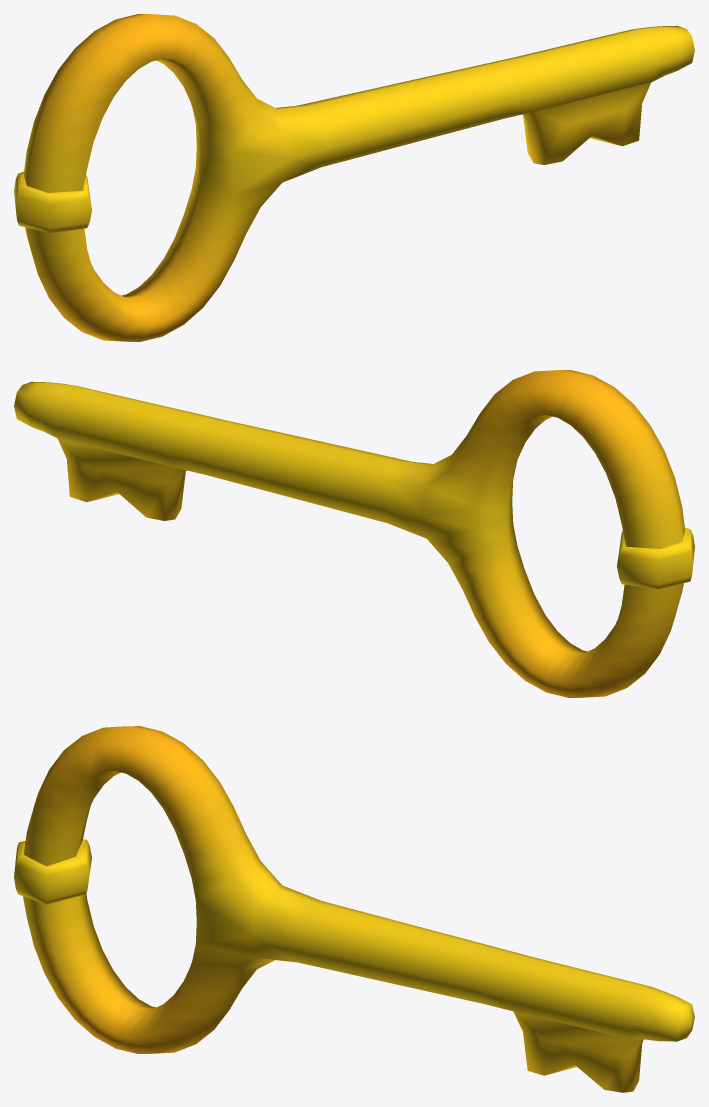
The model's file is key.fbx.
3 renders of one model, top to bottom at view 1: azimuth 30°, elevation 25°; view 2: azimuth 150°, elevation 25°; view 3: azimuth 330°, elevation 25°, orthographic.
Parts seen in each view (by area): view 1: key; view 2: key; view 3: key.
Part boxes in pixels (<box>): key: <box>14,14,694,341</box>; key: <box>14,370,694,697</box>; key: <box>14,726,694,1092</box>.
Bounding box in the file's own units: 446 × 203 × 49.09.
Materials: 1 (1 with a texture image).
